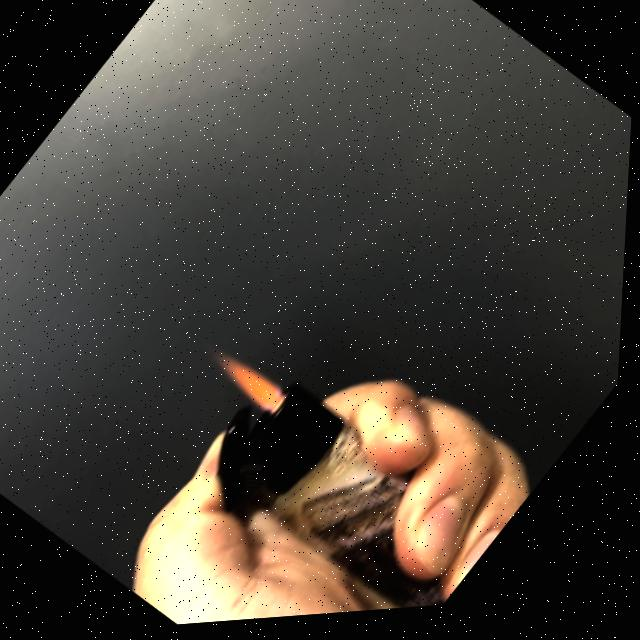Fire: (206, 341, 300, 429)
